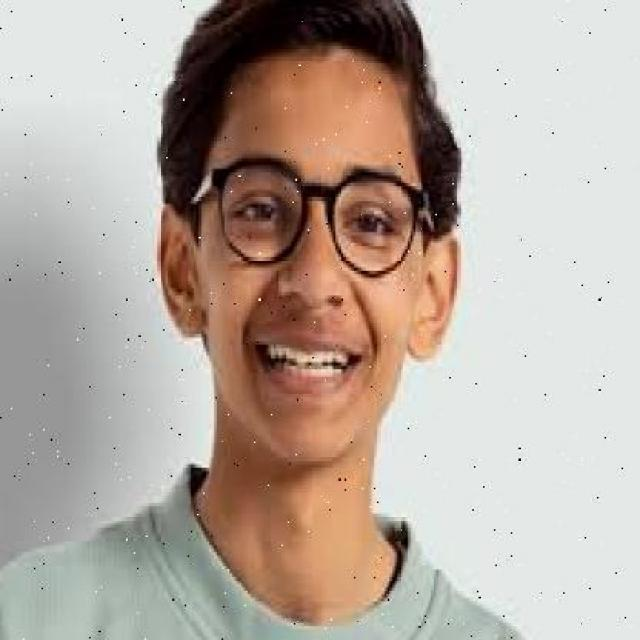glasses: (207, 152, 438, 279)
